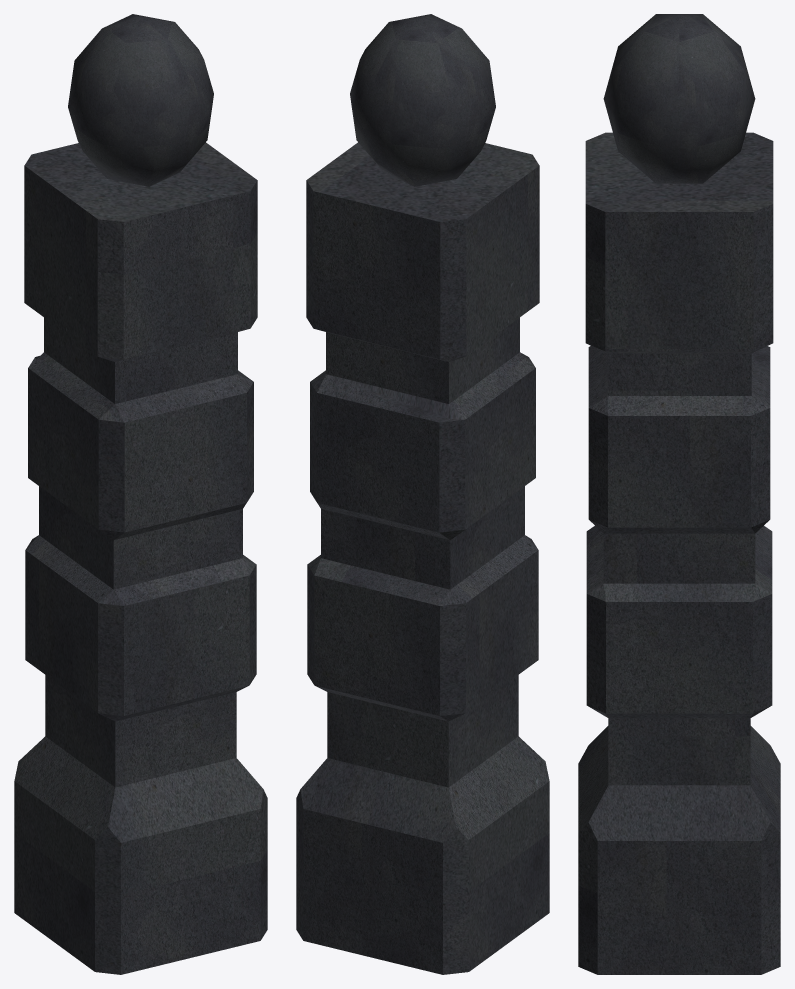
Rendered from pillar.glb.
3 renders of one model, left to right at view 1: azimuth 30°, elevation 25°; view 2: azimuth 150°, elevation 25°; view 3: azimuth 270°, elevation 25°, orthographic.
Visible parts, largest first — view 1: Piller; view 2: Piller; view 3: Piller.
Boxes of the visible parts, x1,y1,x2,y2 form: Piller: [14, 14, 267, 974]; Piller: [296, 14, 549, 974]; Piller: [578, 14, 780, 974].
Size of the model in its own units: 0.8 by 4 by 0.8.
Materials: 1 (1 with a texture image).
